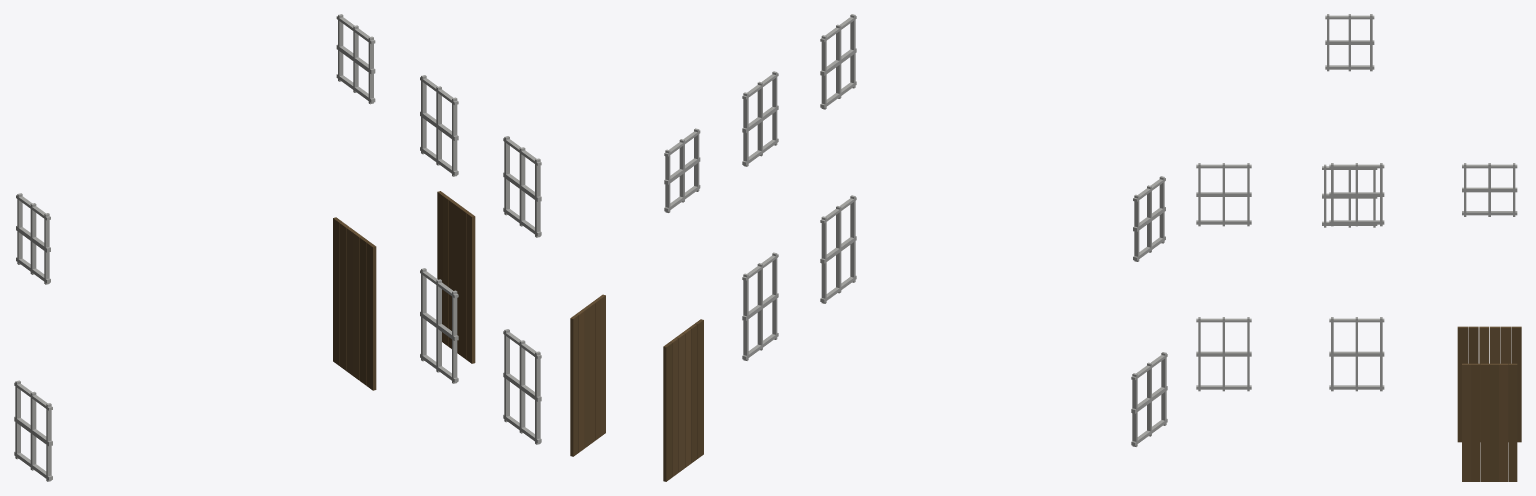
File: SM_Bld_180_Wood.glb
3 renders of one model, left to right at view 1: azimuth 30°, elevation 25°; view 2: azimuth 150°, elevation 25°; view 3: azimuth 270°, elevation 25°, orthographic. The views are drawn at different scales.
Visible parts, largest first — view 1: SM_Bld_180_Wood; view 2: SM_Bld_180_Wood; view 3: SM_Bld_180_Wood.
Boxes of the visible parts, x1,y1,x2,y2 form: SM_Bld_180_Wood: (14, 14, 541, 481); SM_Bld_180_Wood: (570, 14, 1167, 481); SM_Bld_180_Wood: (1196, 14, 1521, 481).
Size of the model in its own units: 7.7 by 4.99 by 5.28.
